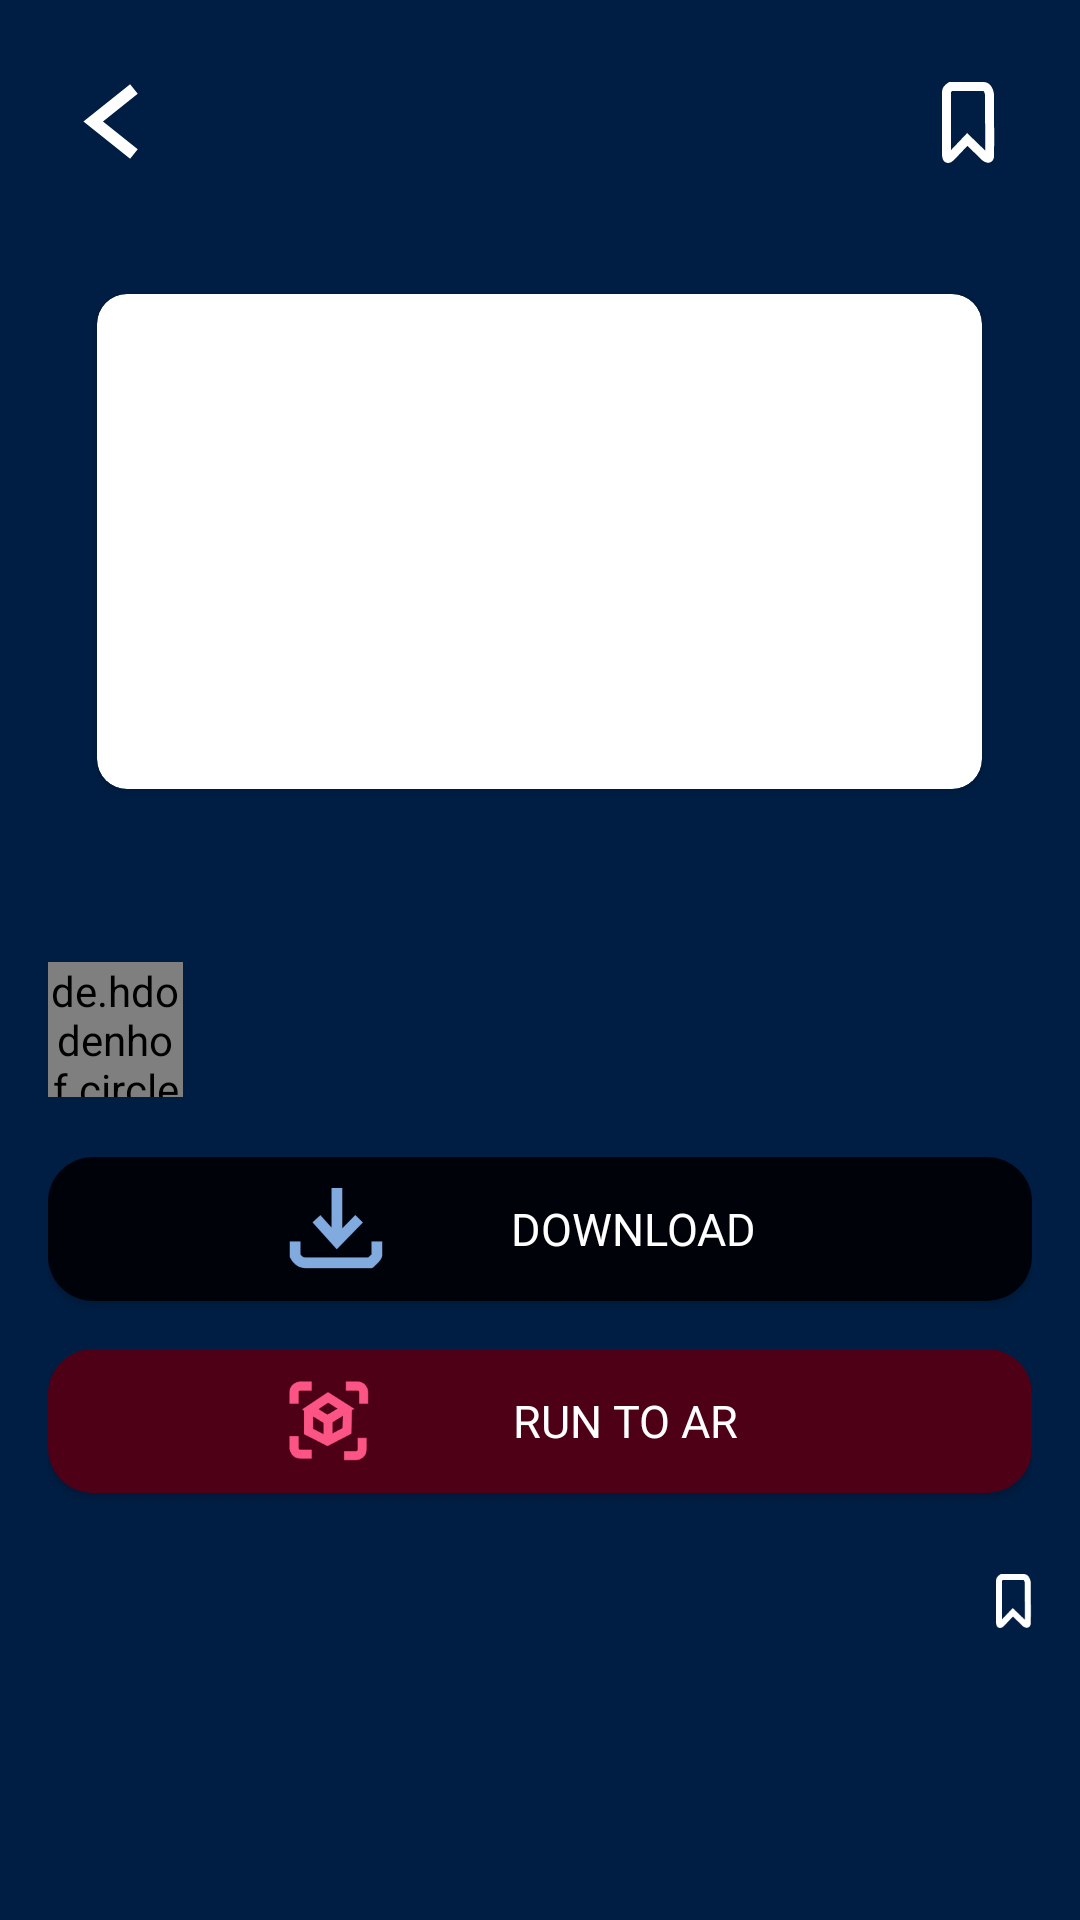

Icon click points for this 1080 × 1920 phone screenshot, format (x,y):
back arrow: (110,121)
